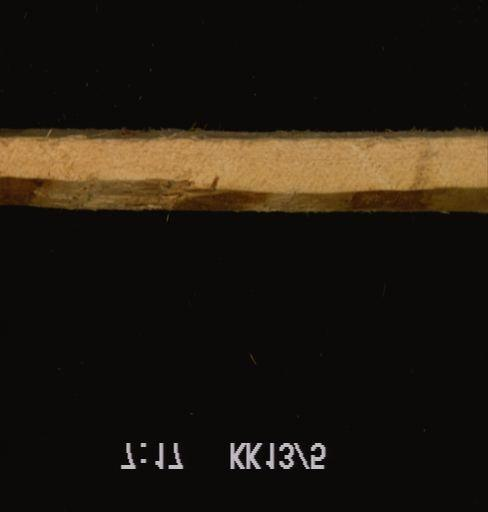wave: (1, 172, 487, 216), (0, 120, 485, 148)
